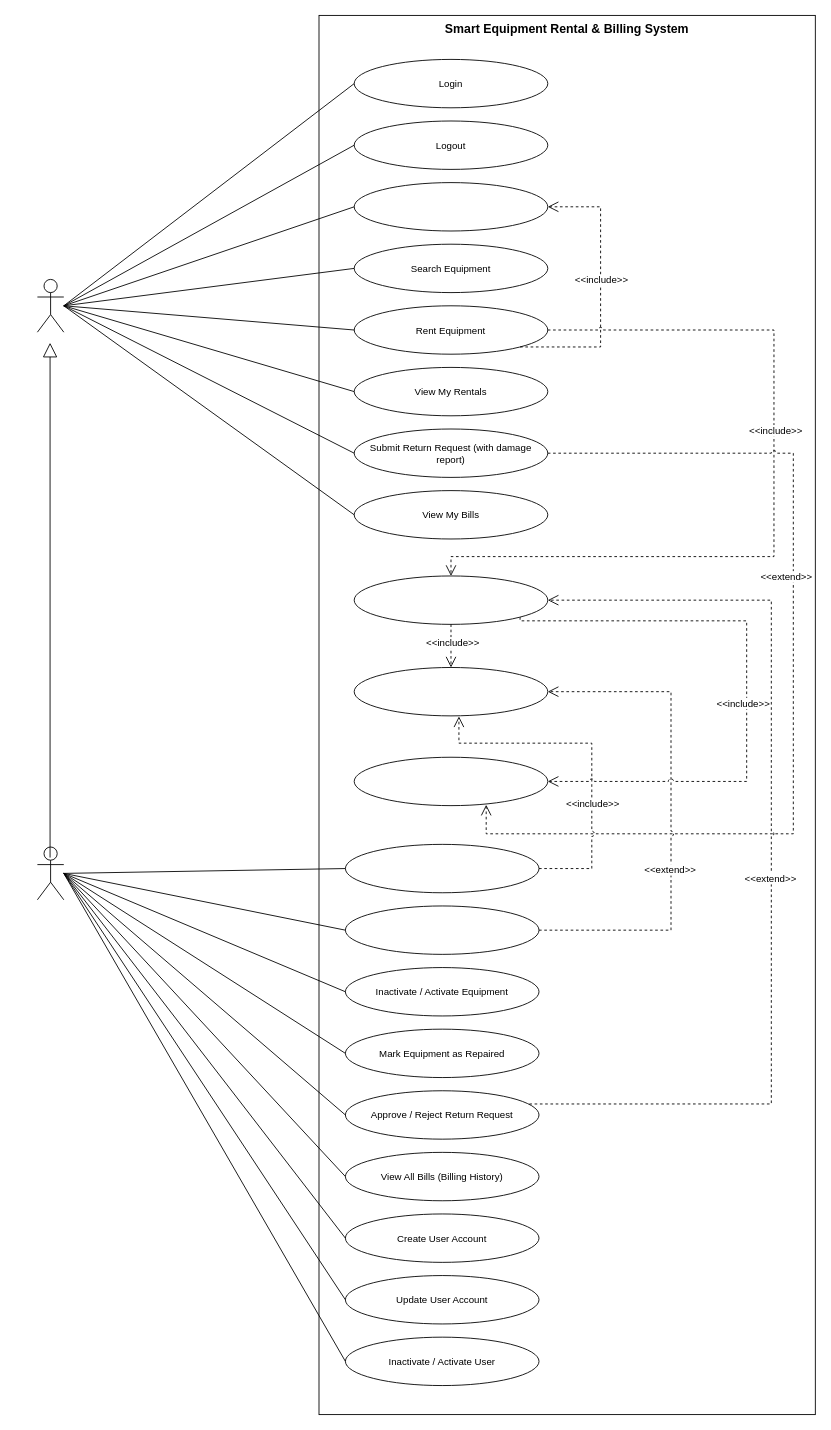
Some shapes in this 831 by 1430 pixel diagram are drawn without their labels. The centre of each missing label's shape, as x and y in pixels:
"Apply Penalty Rules (late / damage)" belongs at [450,781].
"Apply Pricing Policy" belongs at [450,691].
"Browse Equipment Catalog" belongs at [450,206].
"Calculate Bill (base + discount + penalties)" belongs at [450,599].
"Create New Equipment" belongs at [442,868].
"Edit Equipment Details" belongs at [442,929].
"Staff / Admin" belongs at [50,873].
"Student" belongs at [50,305].
